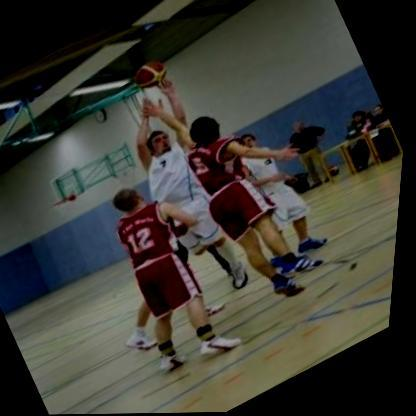basketball: (127, 54, 175, 97)
